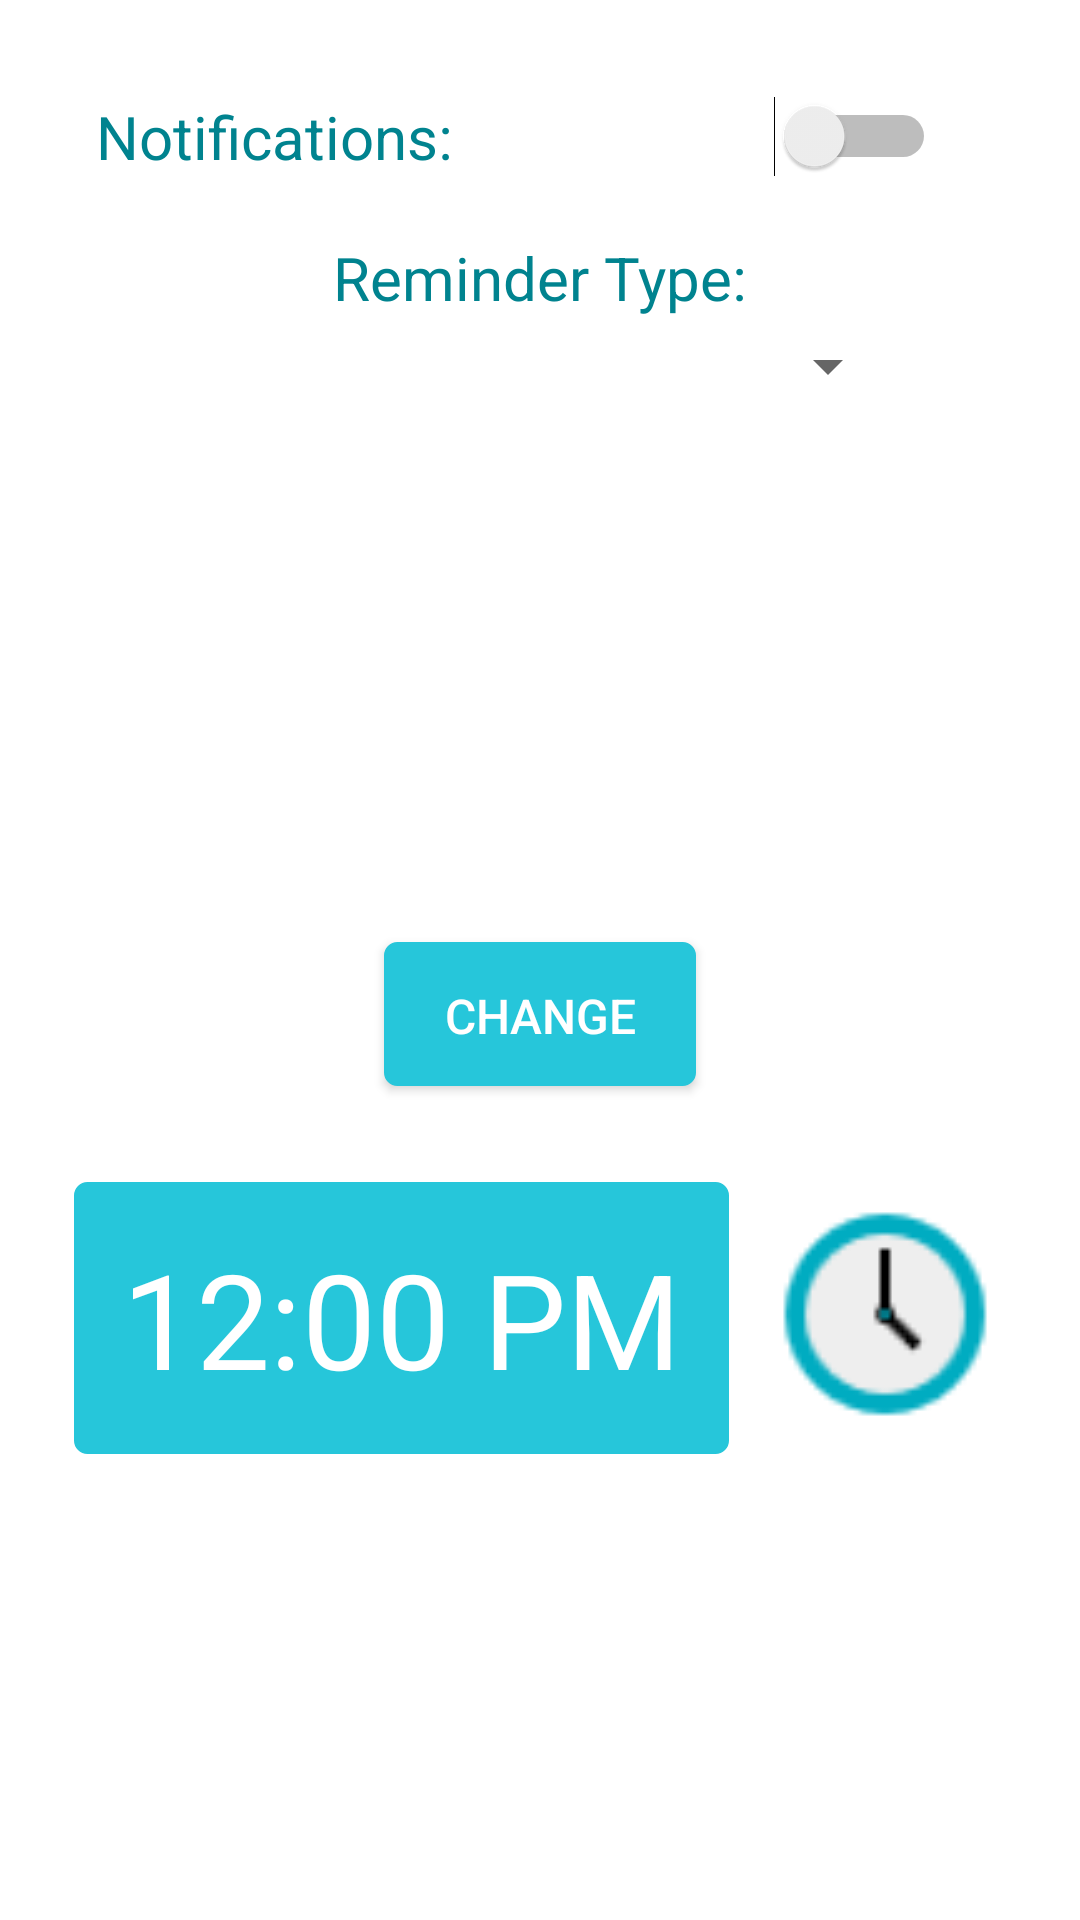

Named icons in this screenshot (1080×1920) and their centers, point (x, y):
clock: point (885, 1314)
